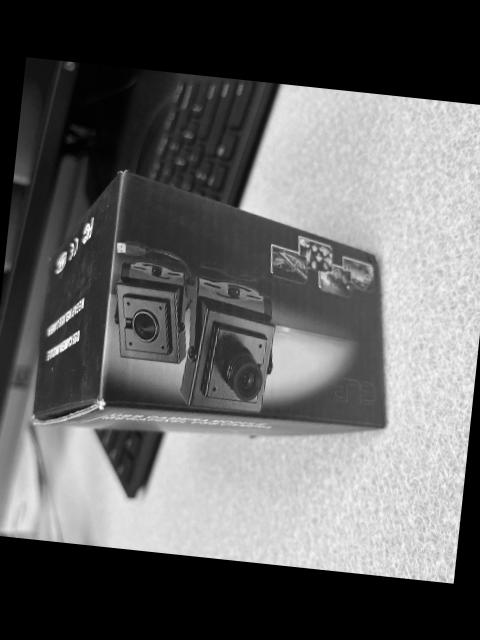CameraBox2: (32, 169, 390, 438)
